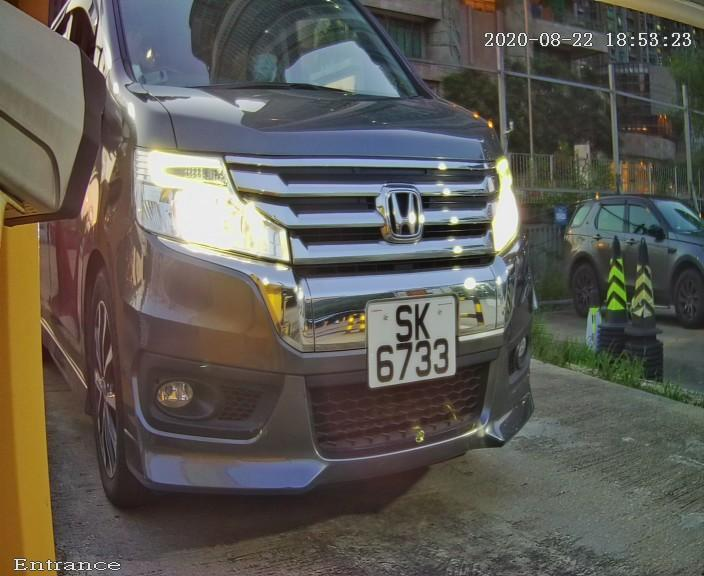Car: (23, 3, 601, 538)
License Plate: (359, 278, 469, 397)
